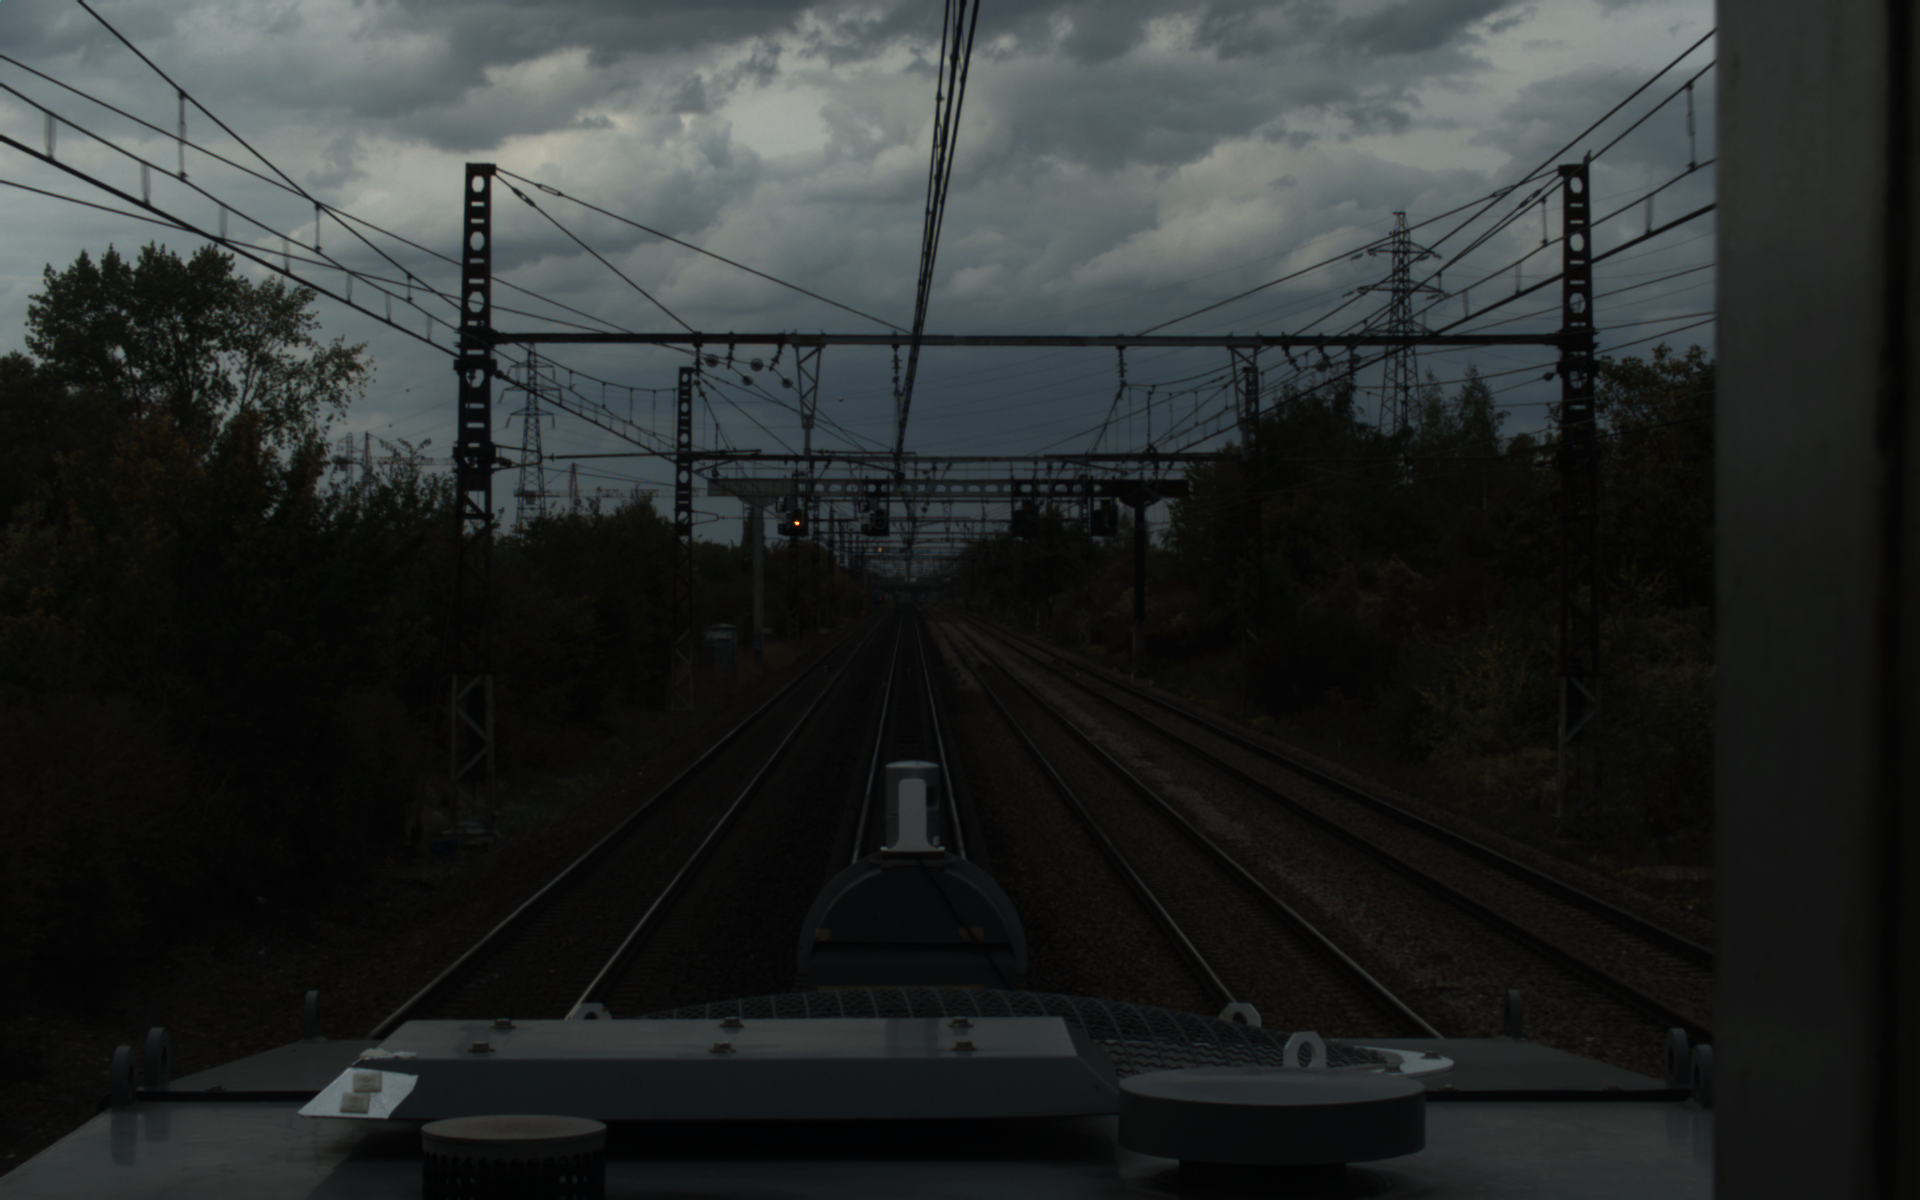Blinking: (871, 506, 889, 529)
Fixed: (787, 506, 804, 532)
